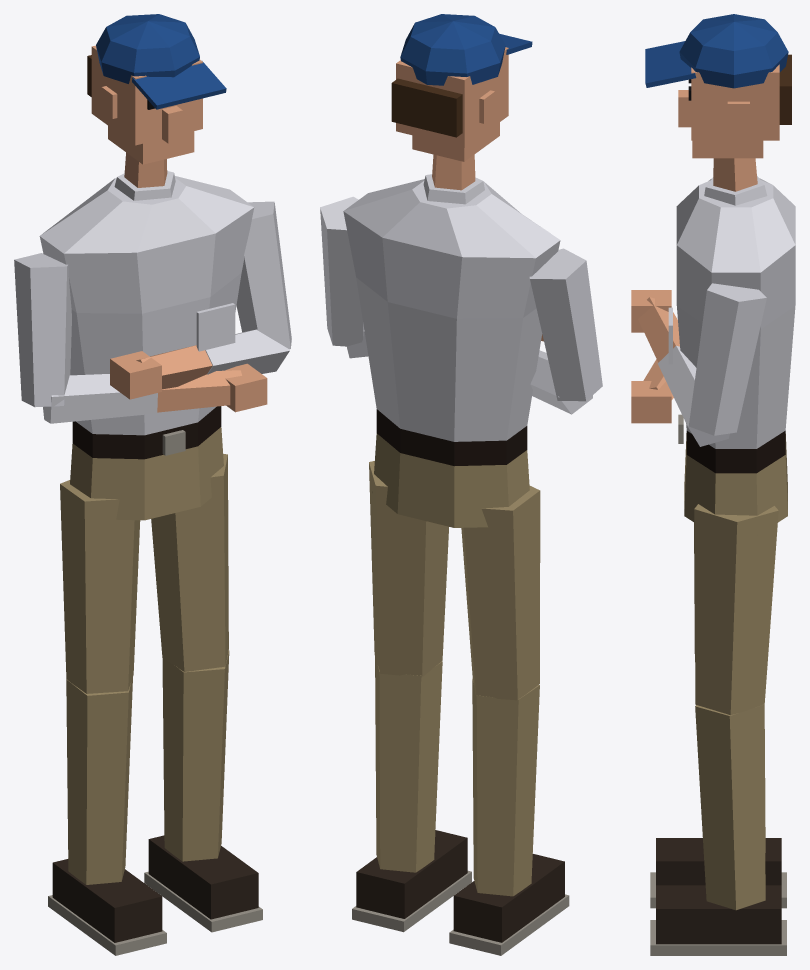
Rendered from spectator.glb.
The picture shows the model from 3 angles, left to right: view 1: azimuth 30°, elevation 25°; view 2: azimuth 150°, elevation 25°; view 3: azimuth 270°, elevation 25°; orthographic projection.
Parts seen in each view (by area): view 1: spectator_mesh; view 2: spectator_mesh; view 3: spectator_mesh.
Part boxes in pixels (box(x1,y1,x2,y2)): spectator_mesh: box(14, 14, 291, 955); spectator_mesh: box(320, 14, 602, 955); spectator_mesh: box(631, 14, 795, 955).
Bounding box in the file's own units: 0.5783 × 1.85 × 0.3064.
